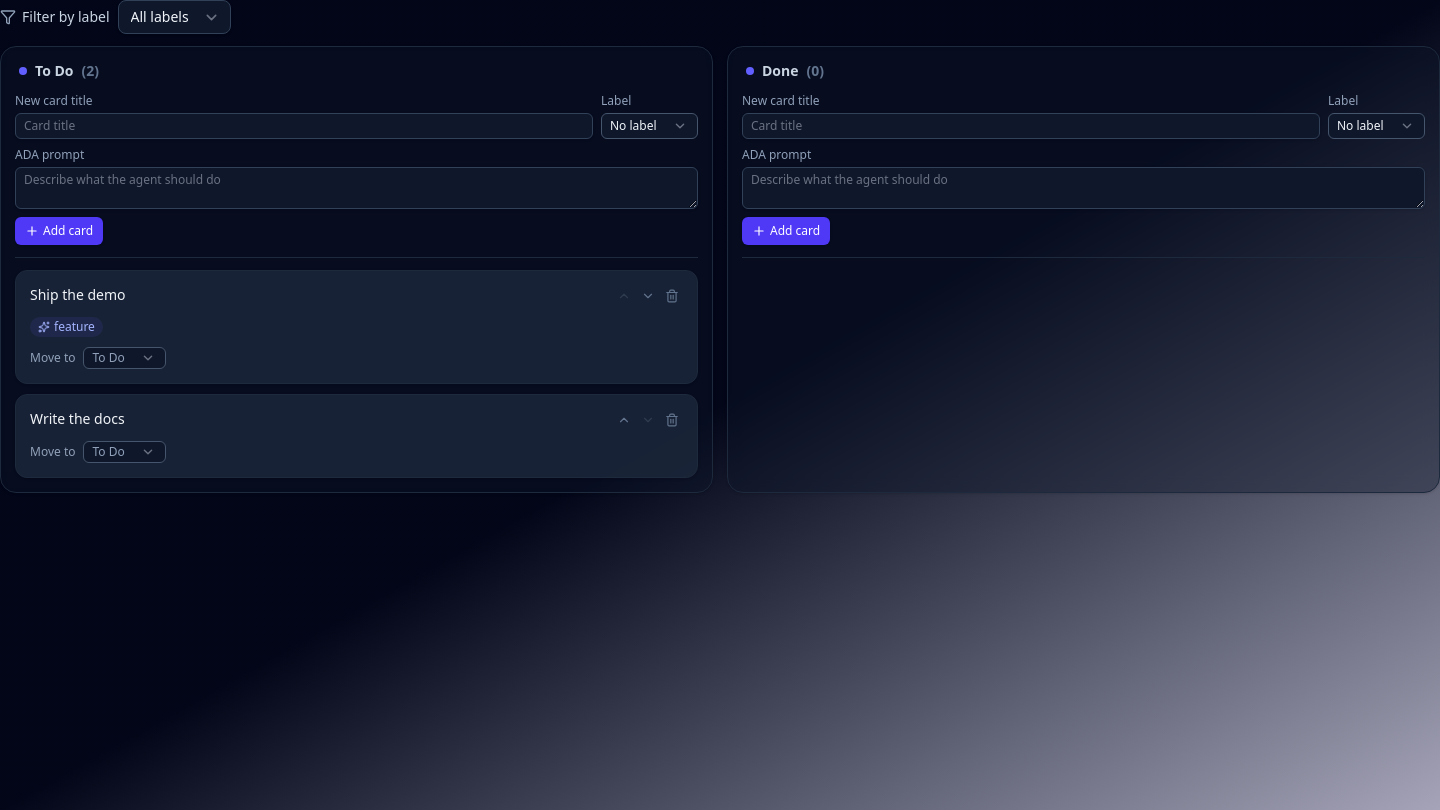
Test: KanbanBoard › should show the Start control on a not_started card and disable it once clicked, without moving it
Double-click the button "Ship the demo feature Move to" at (78, 294), box [15,270,698,384]
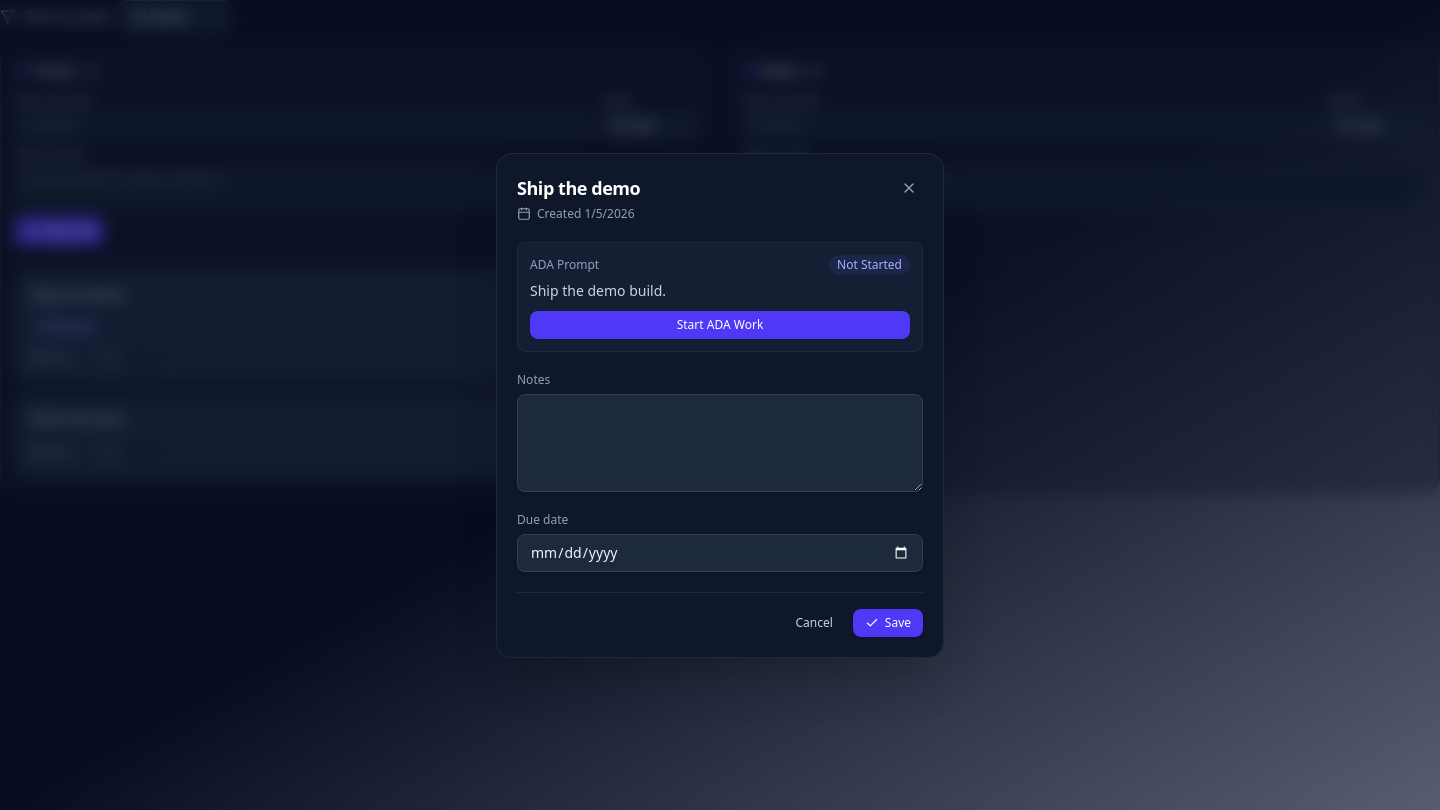
expect the text with test id "card-detail-modal-execution-status" reads "Not Started": met, box [837,256,902,272]
Click the button with test id "card-detail-modal-start-execution" at (720, 324), box [530,310,910,338]
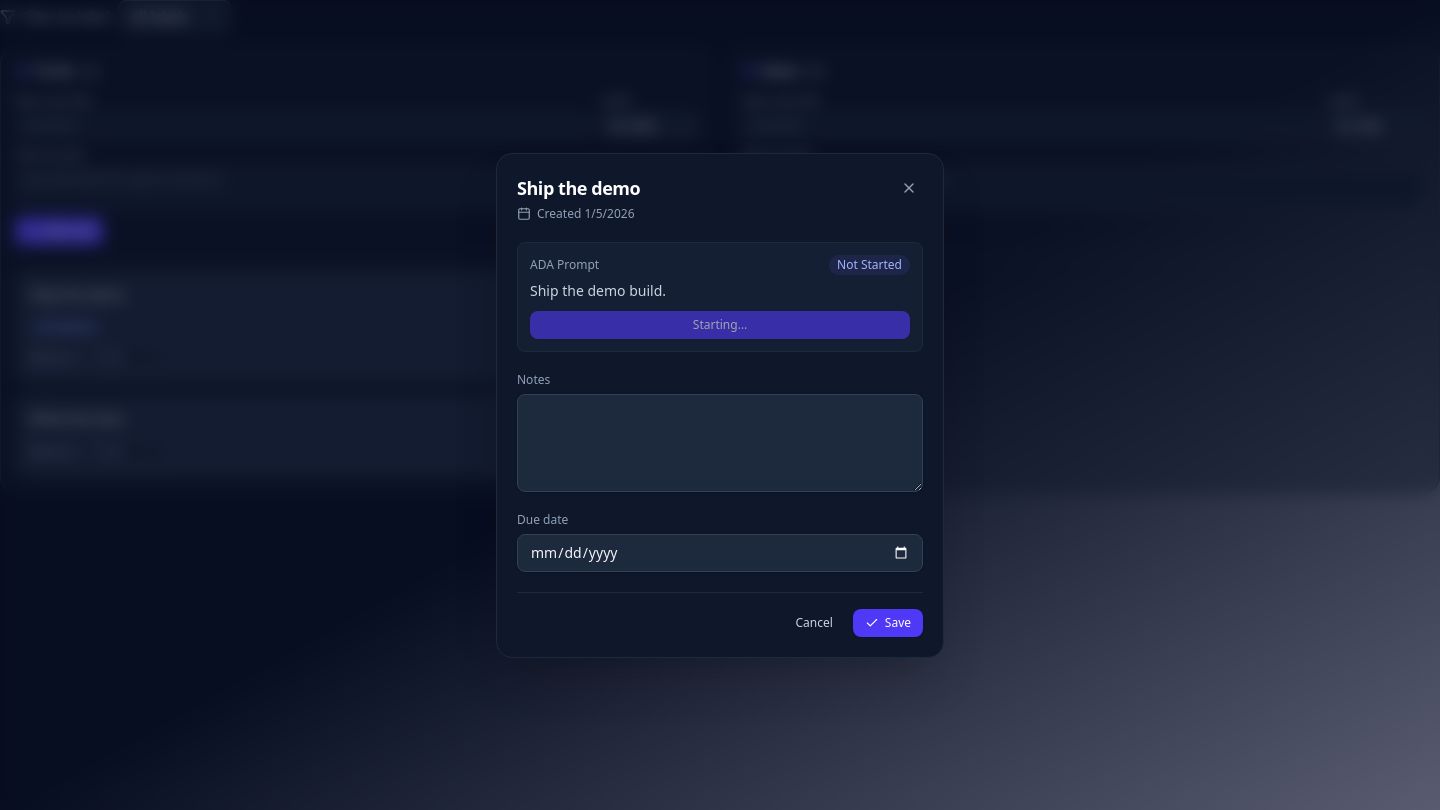
expect the button with test id "card-detail-modal-start-execution" is disabled: met, box [530,310,910,338]
expect the button with test id "card-detail-modal-start-execution" reads "Starting…": met, box [530,310,910,338]
